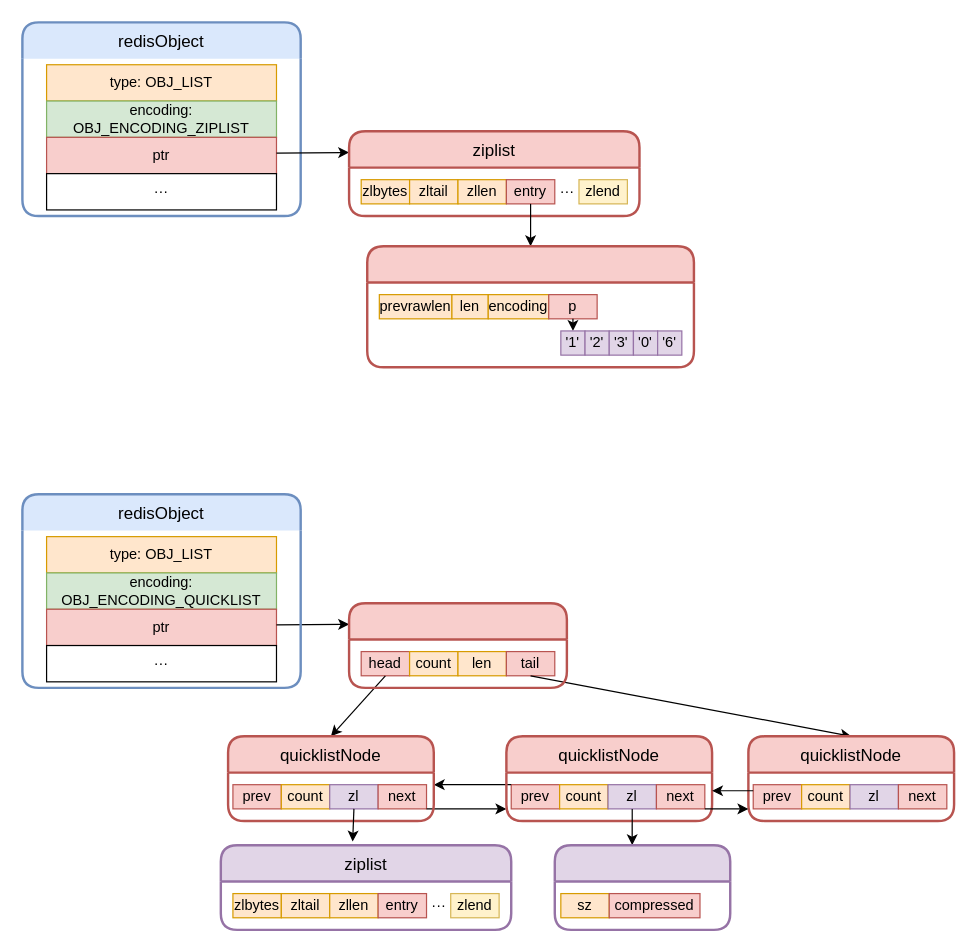
This 975x951 diagram has some shape labels left out. Here are the shapes that lost their labels. From the top down, the centre of each, then its label:
[530,306]: zlentry
[457,644]: quicklist
[642,886]: quicklistLZF
